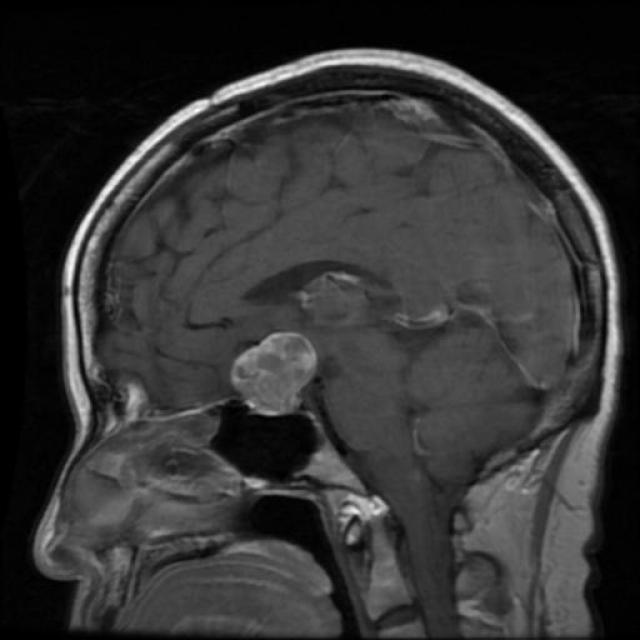Brain-Tumor: (227, 321, 331, 424)
